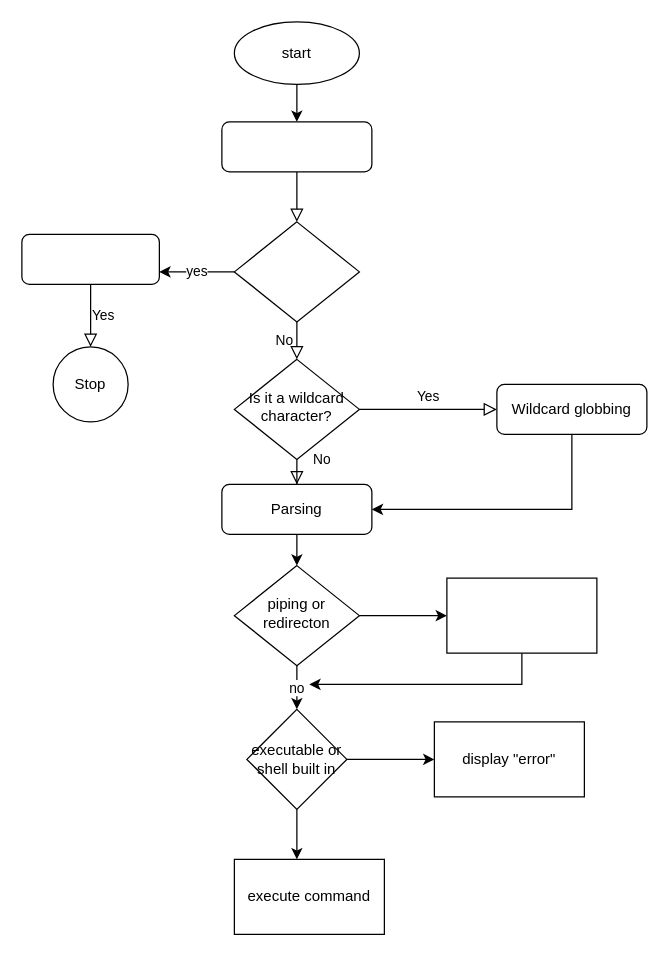
Image size: 669x956. Some labels were removed from this diagram. Here are the shapes that lost their labels. From the top down, the centre of each, then its label:
the point at 296,146: input command
the point at 90,258: Terminate
the point at 296,271: is it "exit"
the point at 521,615: pipe and redirection handler
